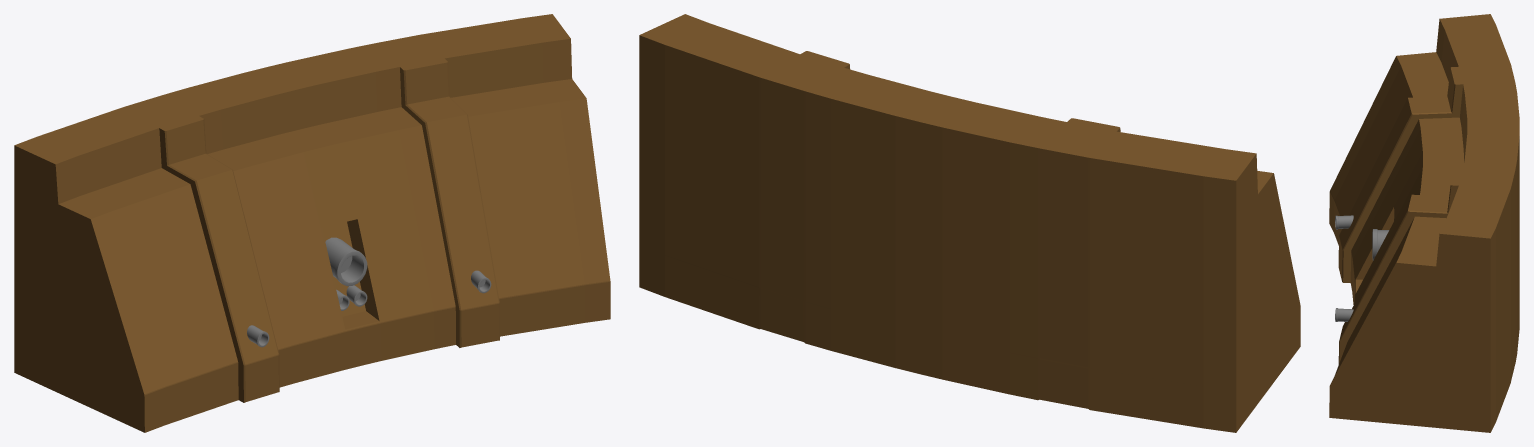
Rendered from SM_Dam.fbx.
3 renders of one model, left to right at view 1: azimuth 30°, elevation 25°; view 2: azimuth 150°, elevation 25°; view 3: azimuth 270°, elevation 25°, orthographic. The views are drawn at different scales.
Visible parts, largest first — view 1: SM_Dam; view 2: SM_Dam; view 3: SM_Dam.
Part boxes in pixels (x1,y1,x2,y2): SM_Dam: (14,14,610,432); SM_Dam: (639,14,1300,432); SM_Dam: (1329,14,1519,432).
Bounding box in the file's own units: 12412 × 5010 × 4449.
